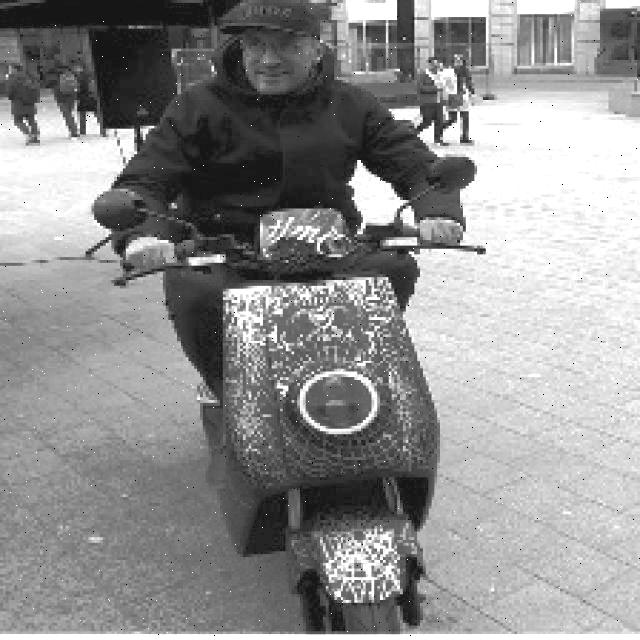Bike: (175, 224, 479, 630)
